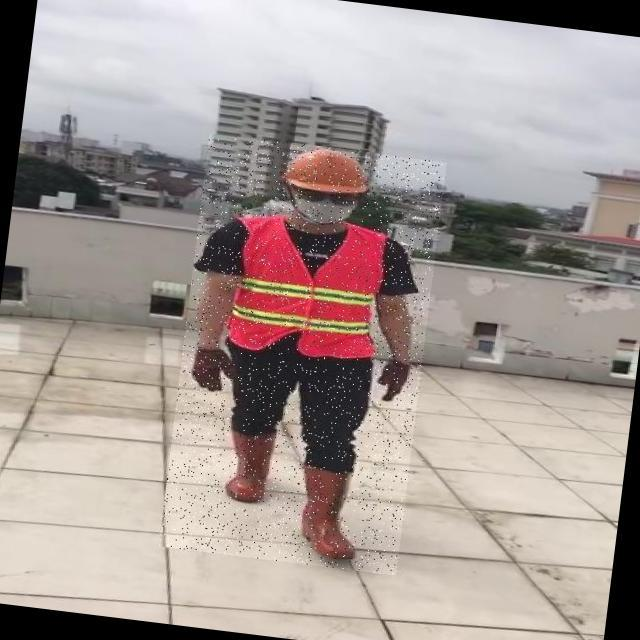Helmet: (282, 142, 379, 197)
Human: (159, 133, 448, 575)
Safety Boot: (295, 464, 370, 562), (225, 428, 279, 505)
Safety Vest: (226, 211, 396, 362)
